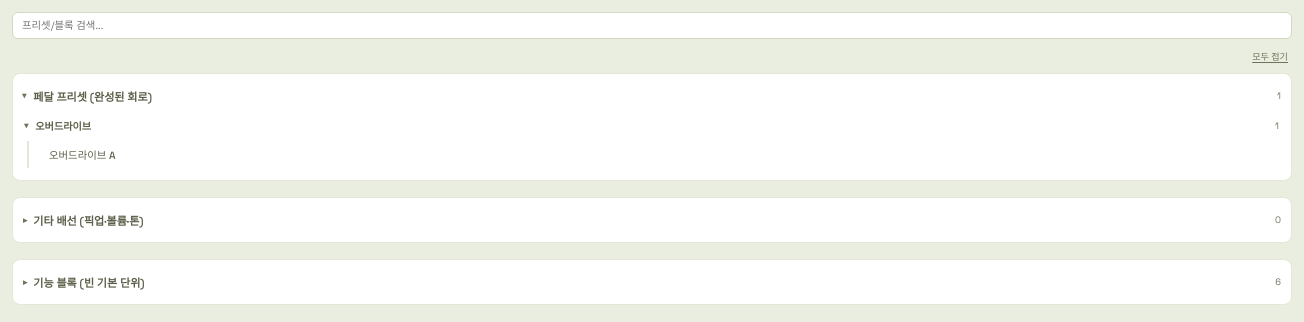
Test: LibraryExplorer › searching matches across both presets and blocks regardless of collapse state
Type "버퍼" into the search field named "템플릿 검색" at (652, 26), box [12,12,1292,39]
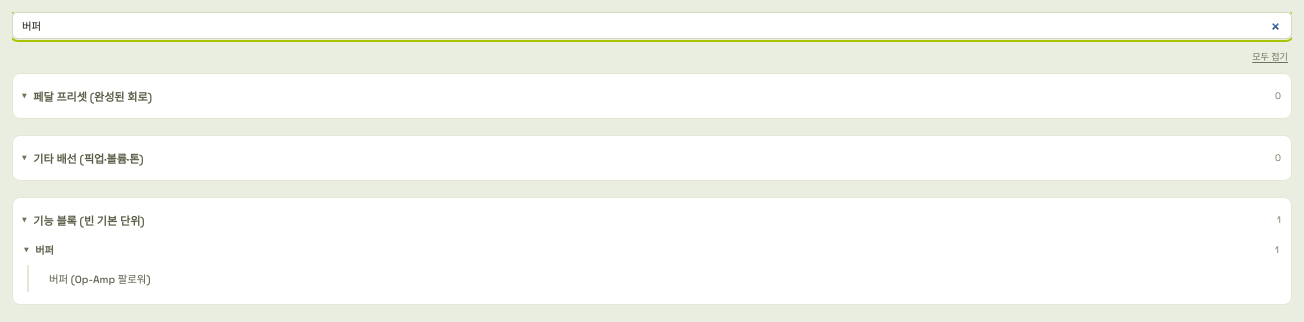
Check: the text "버퍼 (Op-Amp 팔로워)" is shown, box [49,273,150,286]
